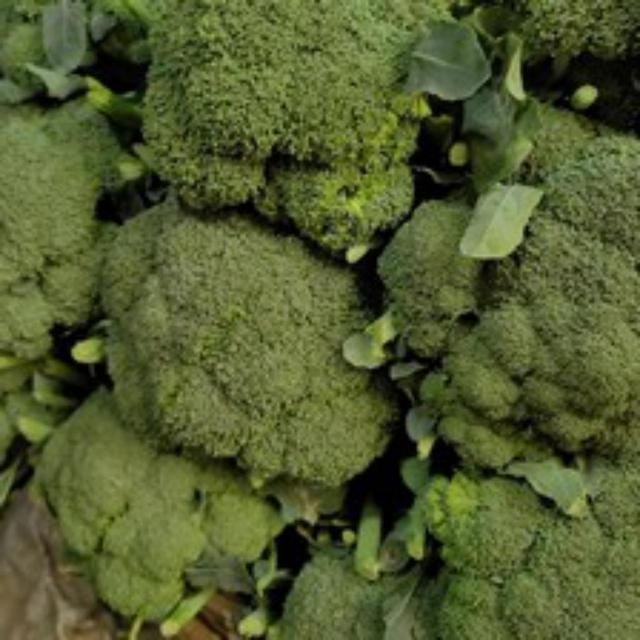broccoli: (94, 187, 414, 513)
